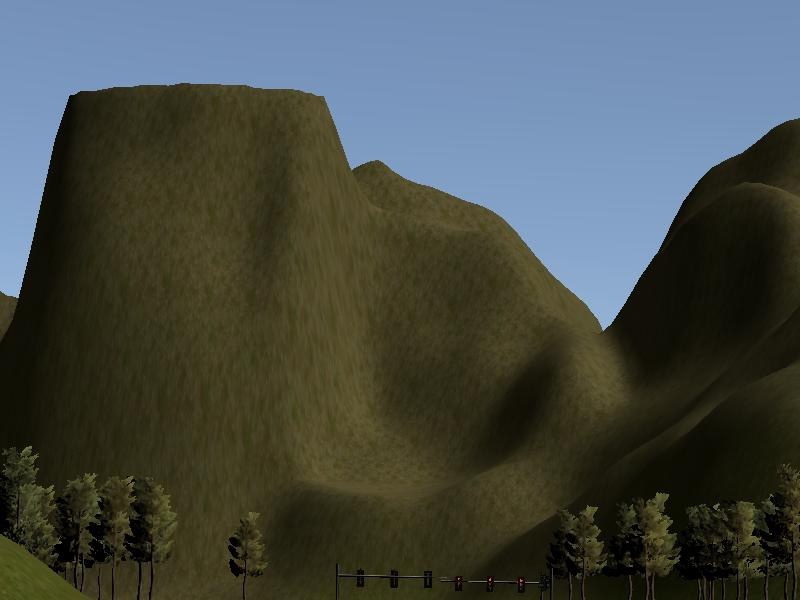Red: (487, 577, 494, 591)
